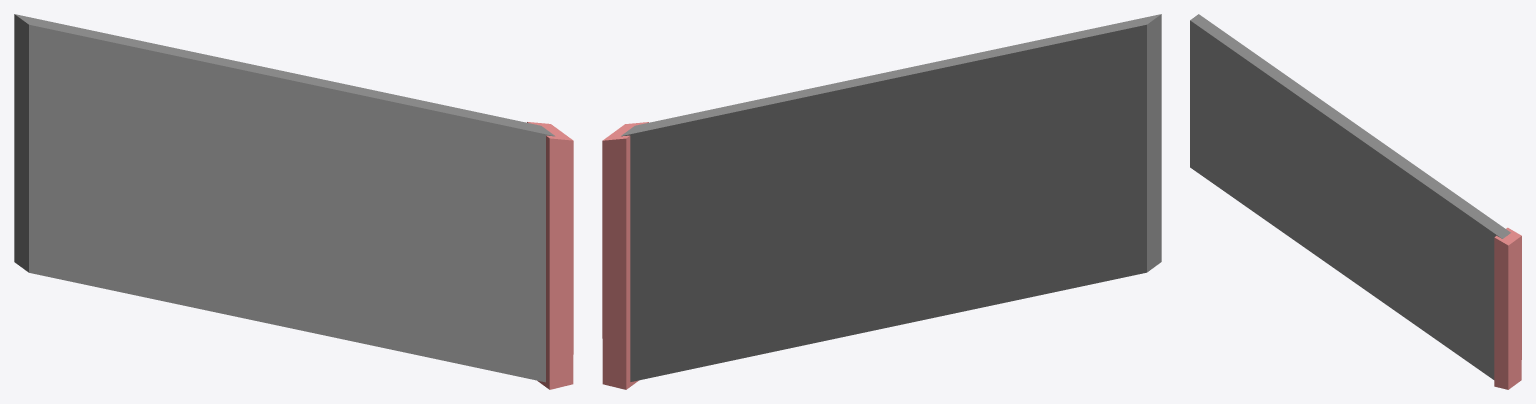
File: S_Envi_Umeda_Module_Strip03e.gltf
3 renders of one model, left to right at view 1: azimuth 30°, elevation 25°; view 2: azimuth 150°, elevation 25°; view 3: azimuth 330°, elevation 25°, orthographic. The views are drawn at different scales.
Parts seen in each view (by area): view 1: S_Envi_Umeda_Module_Strip03e; view 2: S_Envi_Umeda_Module_Strip03e; view 3: S_Envi_Umeda_Module_Strip03e.
Boxes of the visible parts, x1,y1,x2,y2 form: S_Envi_Umeda_Module_Strip03e: (14,14,573,389); S_Envi_Umeda_Module_Strip03e: (602,14,1161,389); S_Envi_Umeda_Module_Strip03e: (1190,14,1521,389).
Bounding box in the file's own units: 2.04 × 1.76 × 0.1481.
